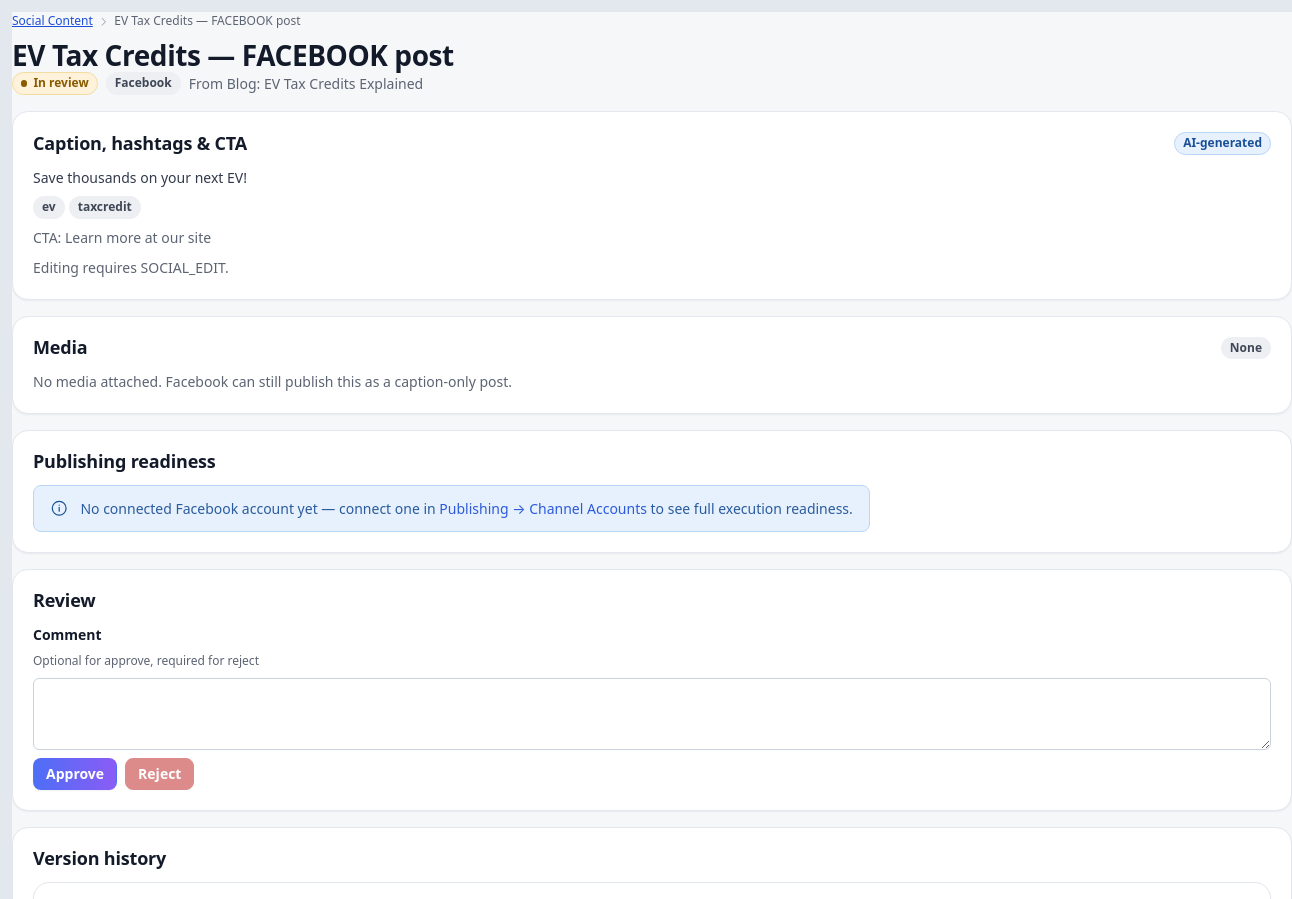
it: SocialPostDetail › approve transitions to Approved and reject requires a comment
Click the button "Approve" at (75, 774), box [33,758,117,790]
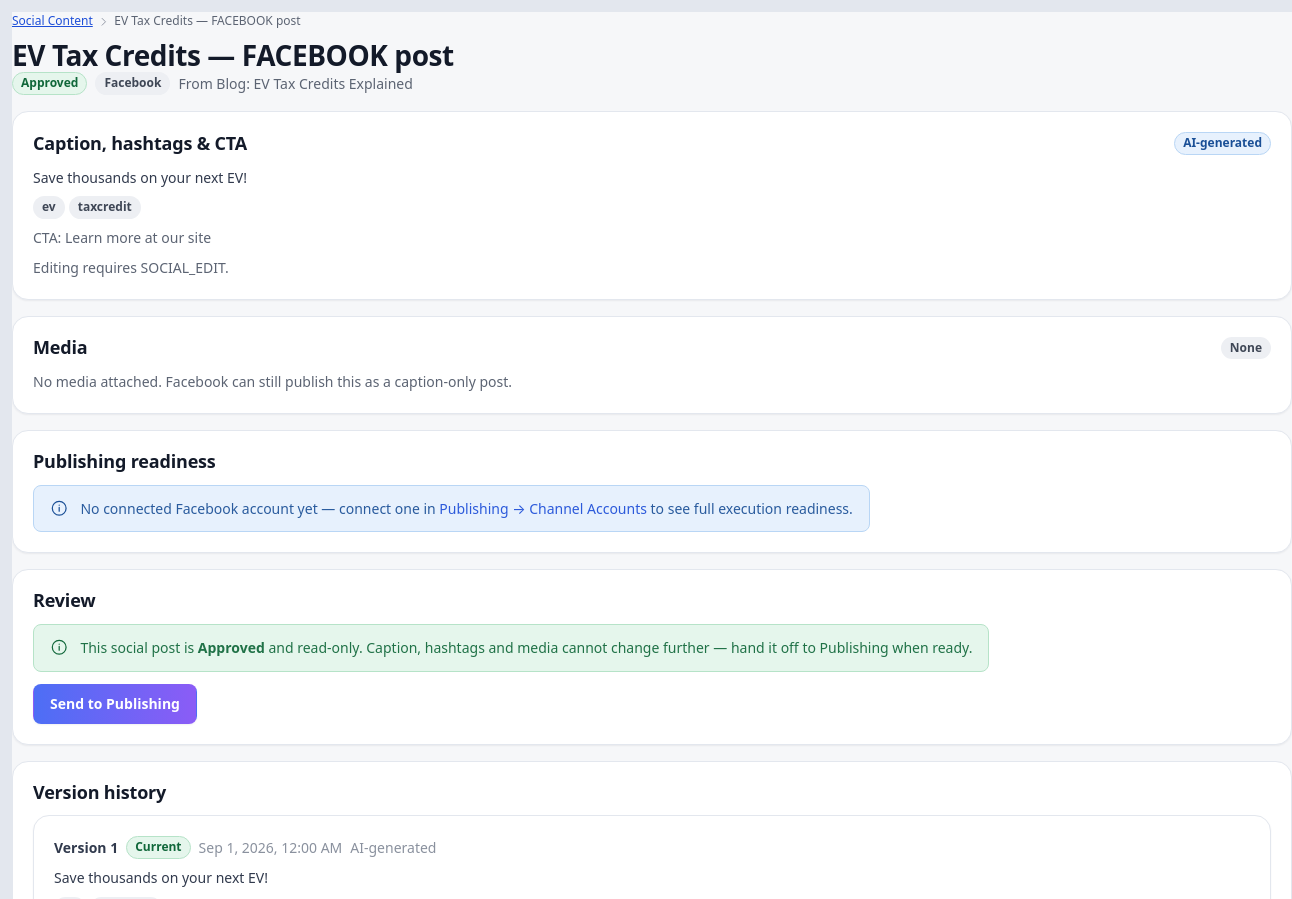
Expected: the text "Approved" next to "This social post is" is shown, [198,638,265,657]
Expected: the text "and read-only" is shown, [265,638,972,657]
